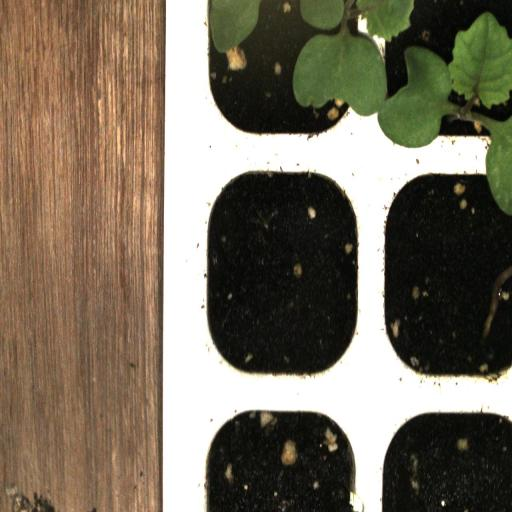Folha: (211, 0, 272, 53)
Germinacao: (376, 1, 512, 164)
